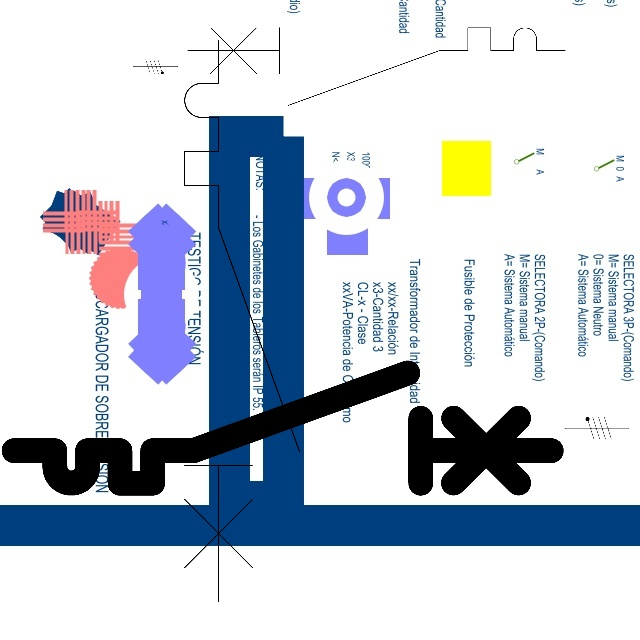interruptor_termomagnetico: (170, 26, 314, 615), (0, 359, 565, 497), (177, 18, 574, 115)
